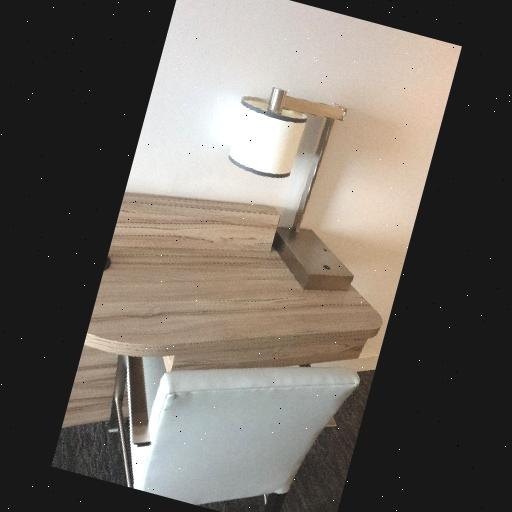chair: (93, 309, 365, 512)
lamp: (196, 80, 390, 296)
organized table: (83, 194, 377, 372)
